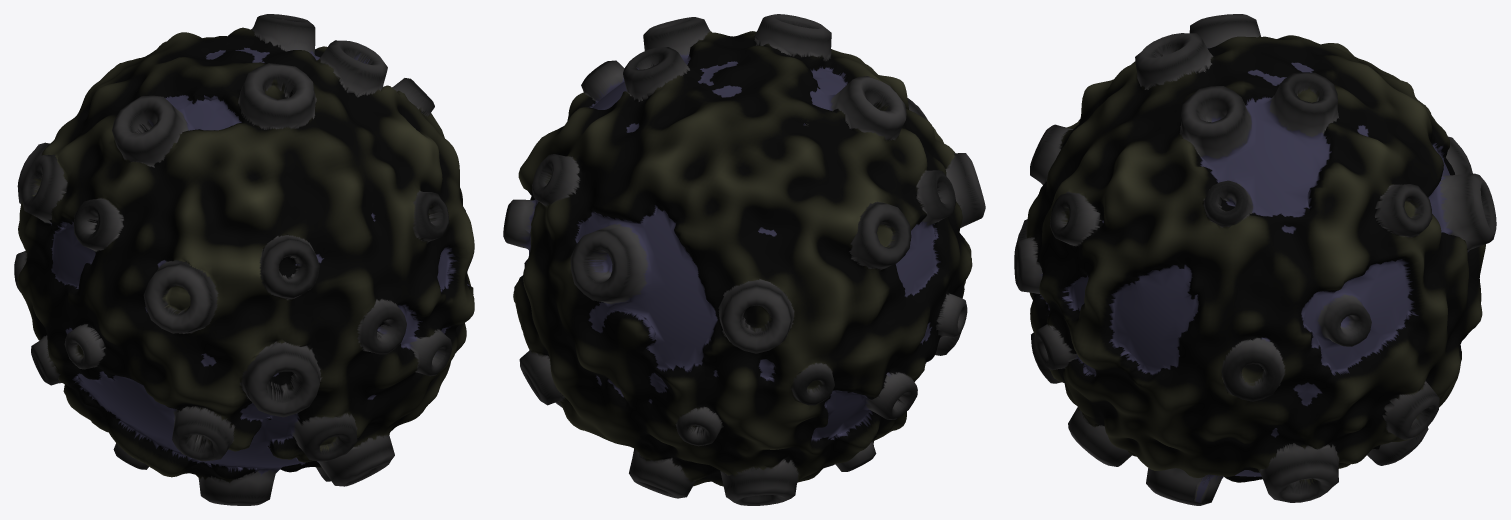
The model's file is ElectricityPlanet.fbx.
3 renders of one model, left to right at view 1: azimuth 30°, elevation 25°; view 2: azimuth 150°, elevation 25°; view 3: azimuth 270°, elevation 25°, orthographic.
Parts seen in each view (by area): view 1: Cube; view 2: Cube; view 3: Cube.
Boxes of the visible parts, box(x1,y1,x2,y2) form: Cube: box(14, 14, 474, 505); Cube: box(503, 14, 985, 505); Cube: box(1014, 14, 1496, 505).
Bounding box in the file's own units: 106 × 108 × 108.
1 material, 1 textured.
